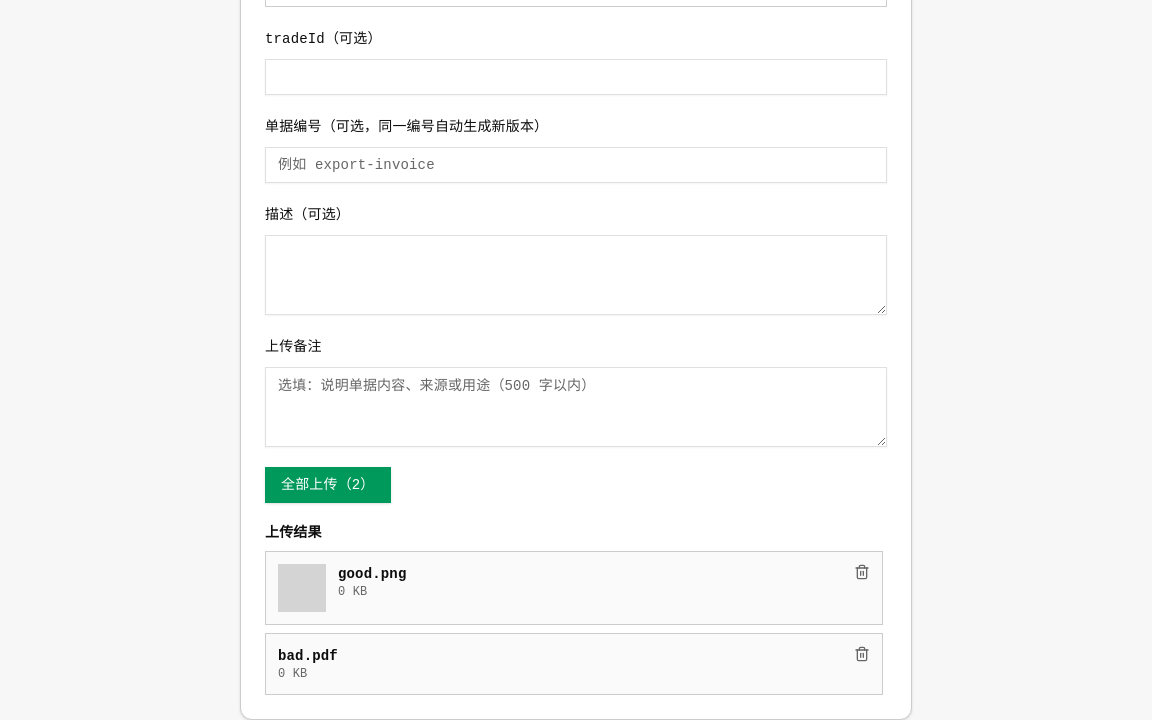
Test case: UploadPage › shows inline failure for failed files and keeps successes
(page scrolled)
Click the button "全部上传（2）".
click(328, 485)  # box [265,467,390,503]
(page scrolled)
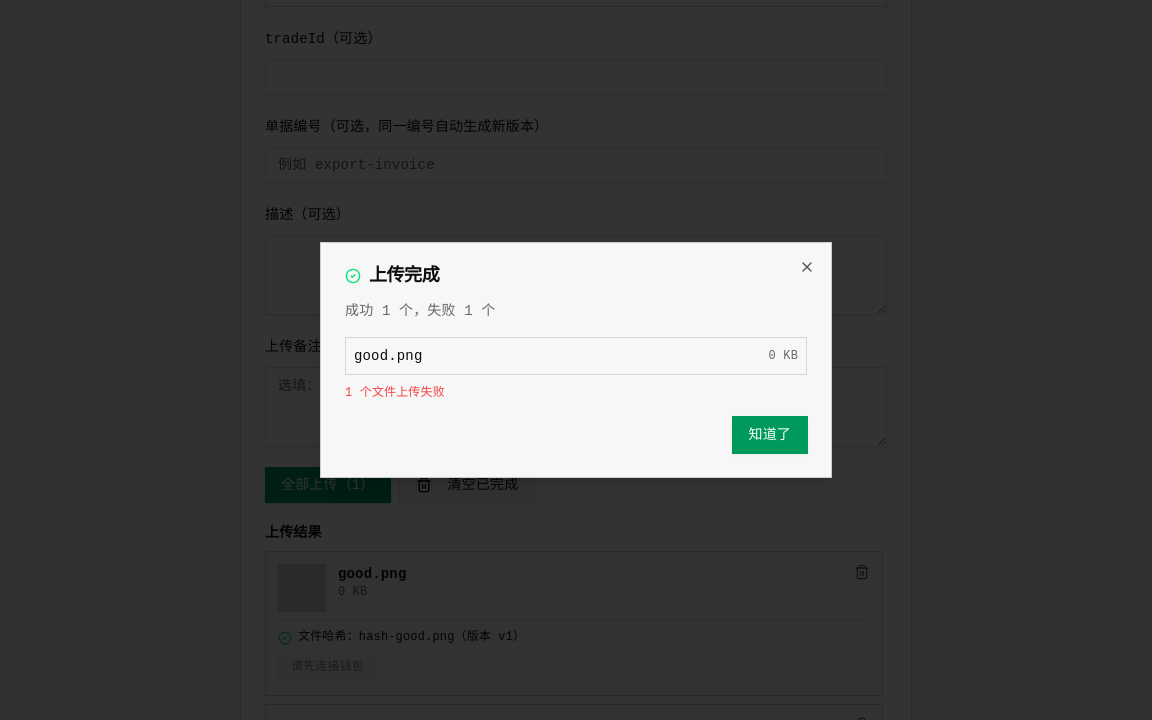
Expected: the text "good.png" below "上传结果" is shown, [338,566,406,582]
Now the text "文件哈希：hash-good.png（版本 v1）" is shown, box [298,629,525,645]
